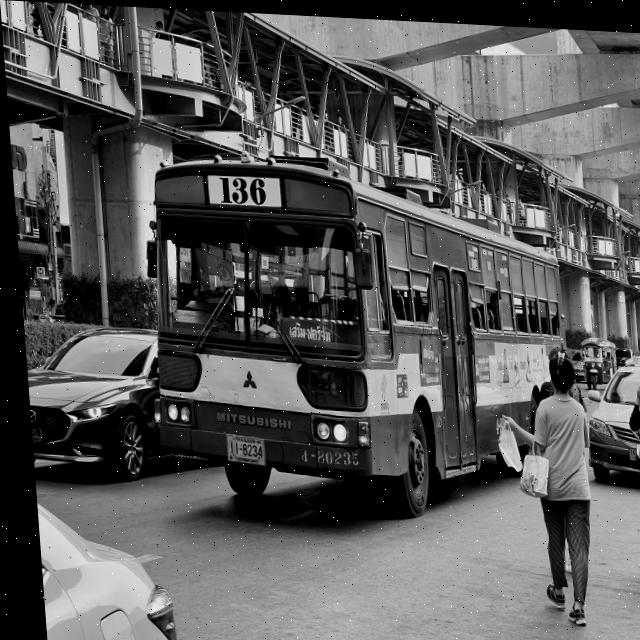BMTA-bus: (134, 142, 575, 525)
Bus-Line-Number: (205, 170, 277, 205)
Destination-Sign-Extra-Bus: (275, 311, 329, 340)
